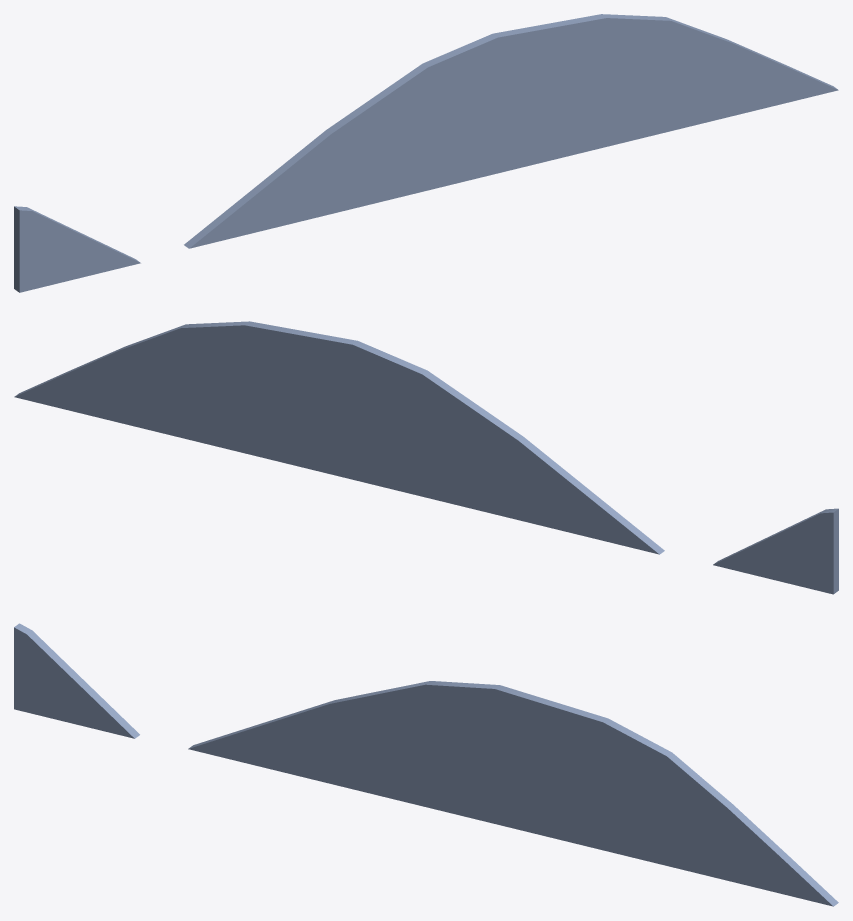
File: frame_0090.glb
3 views of the same model, one above another, from view 1: azimuth 30°, elevation 25°; view 2: azimuth 150°, elevation 25°; view 3: azimuth 330°, elevation 25° (orthographic).
Visible parts, largest first — view 1: export_trees_001.002; view 2: export_trees_001.002; view 3: export_trees_001.002.
Part boxes in pixels (left/top/right/bottom): export_trees_001.002: left=14, top=14, right=838, bottom=292; export_trees_001.002: left=14, top=321, right=838, bottom=594; export_trees_001.002: left=14, top=623, right=838, bottom=906.
Bounding box in the file's own units: 0.3687 × 0.0582 × 0.00629.
